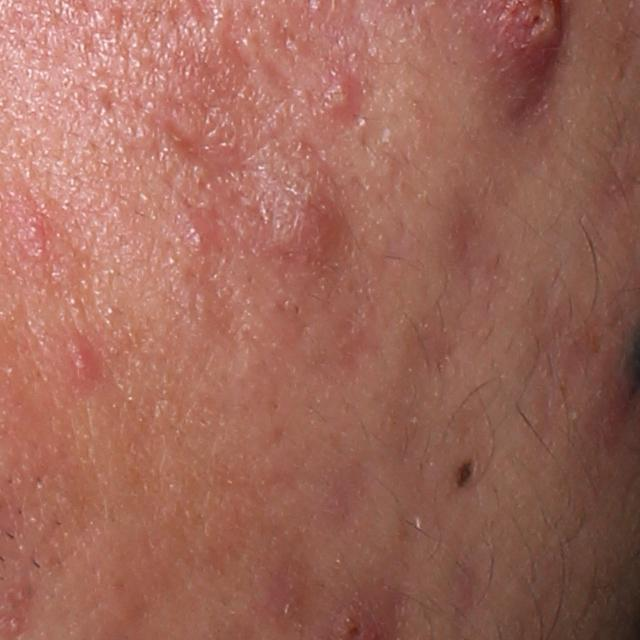atrophic_scar: (398, 294, 479, 411), (431, 177, 499, 287), (160, 114, 215, 169)
nevus: (452, 457, 477, 487)
papule: (269, 171, 349, 270), (324, 69, 369, 127), (65, 340, 96, 384), (182, 218, 217, 255)
